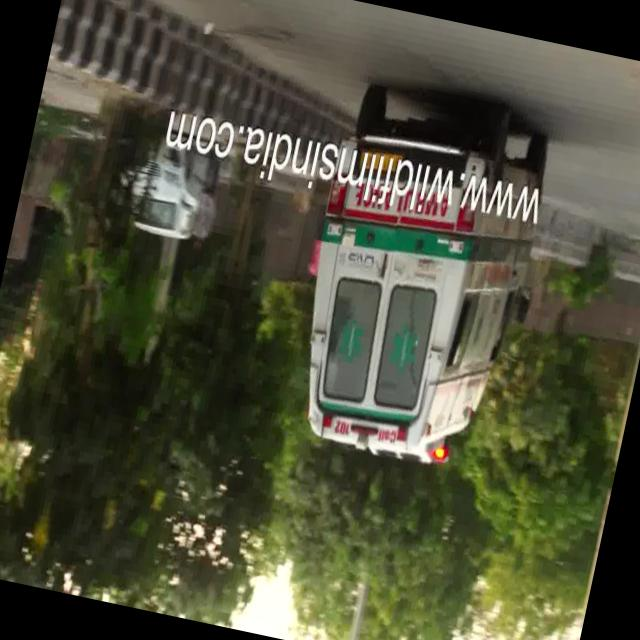ambulance: (266, 190, 536, 483)
